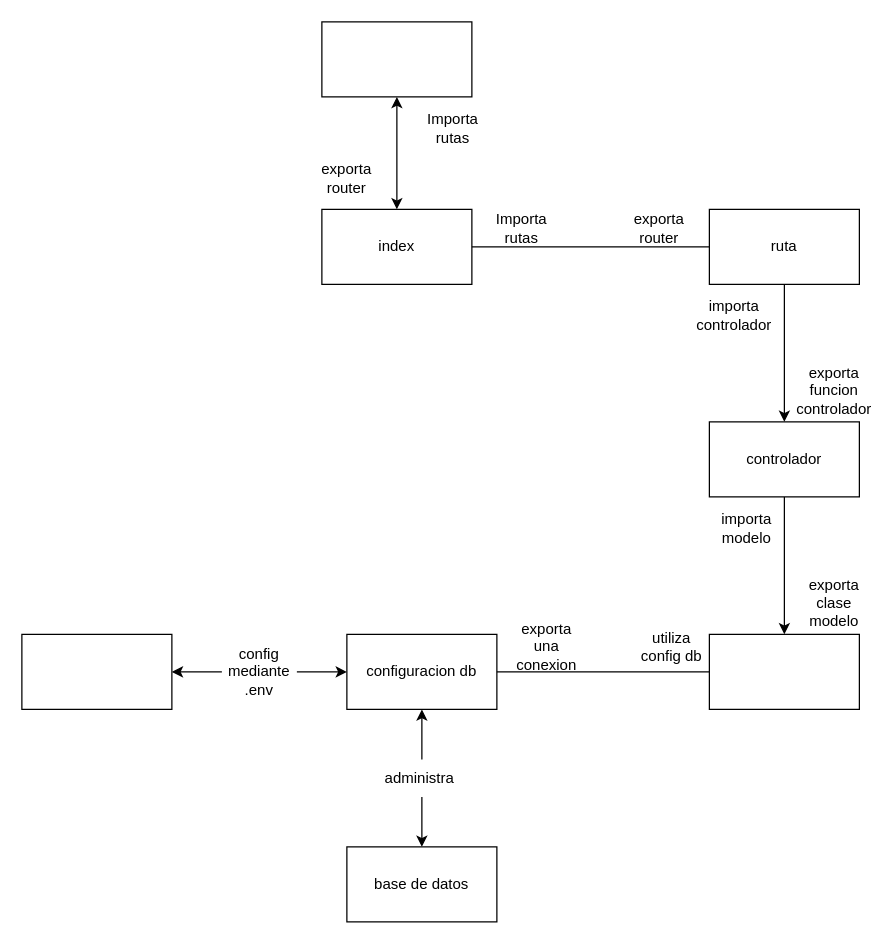
Some shapes in this 894 by 944 pixel diagram are drawn without their labels. The centre of each missing label's shape, as x and y in pixels:
modelo: point (783, 671)
servidor (server.js): point (396, 59)
variables de entorno: point (96, 671)
